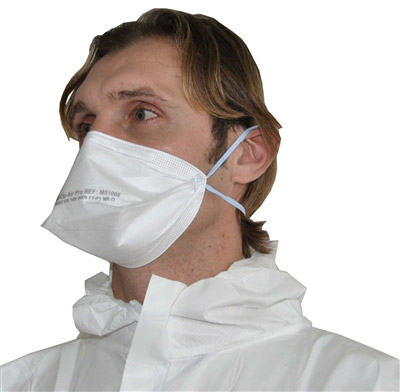with_mask: (68, 93, 227, 252)
